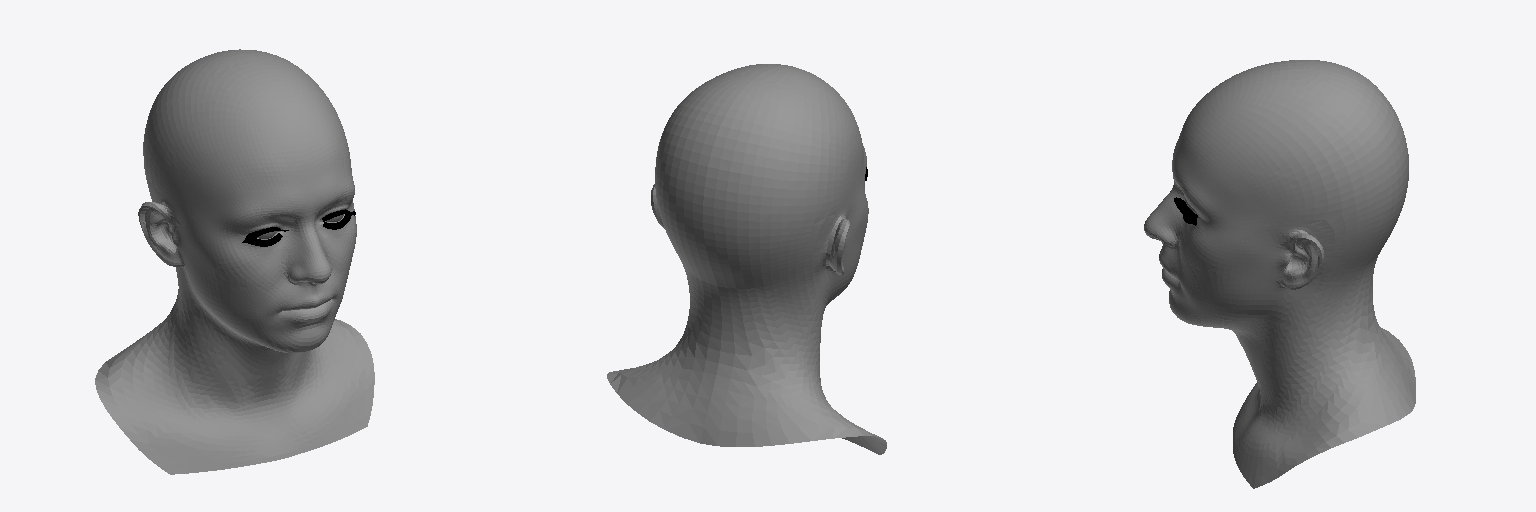
Rendered from identity073.obj.
The picture shows the model from 3 angles: view 1: azimuth 30°, elevation 25°; view 2: azimuth 150°, elevation 25°; view 3: azimuth 270°, elevation 25°; orthographic projection.
Bounding box in the file's own units: 24.83 × 33.81 × 22.33.